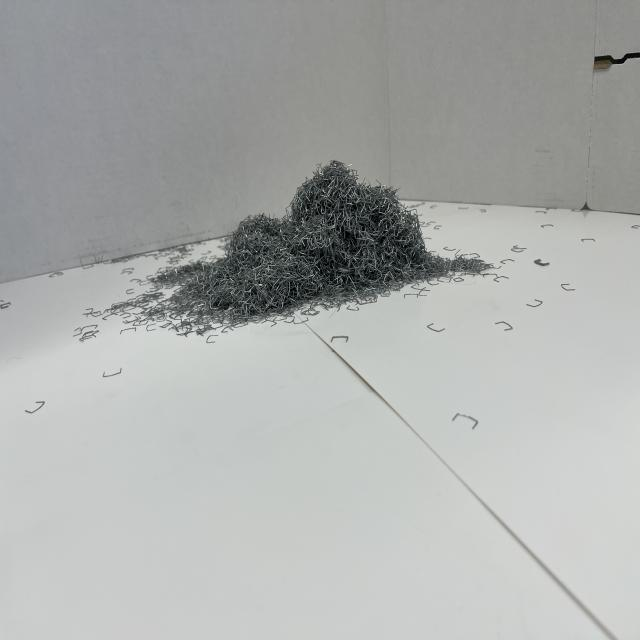staples: (89, 157, 495, 339)
